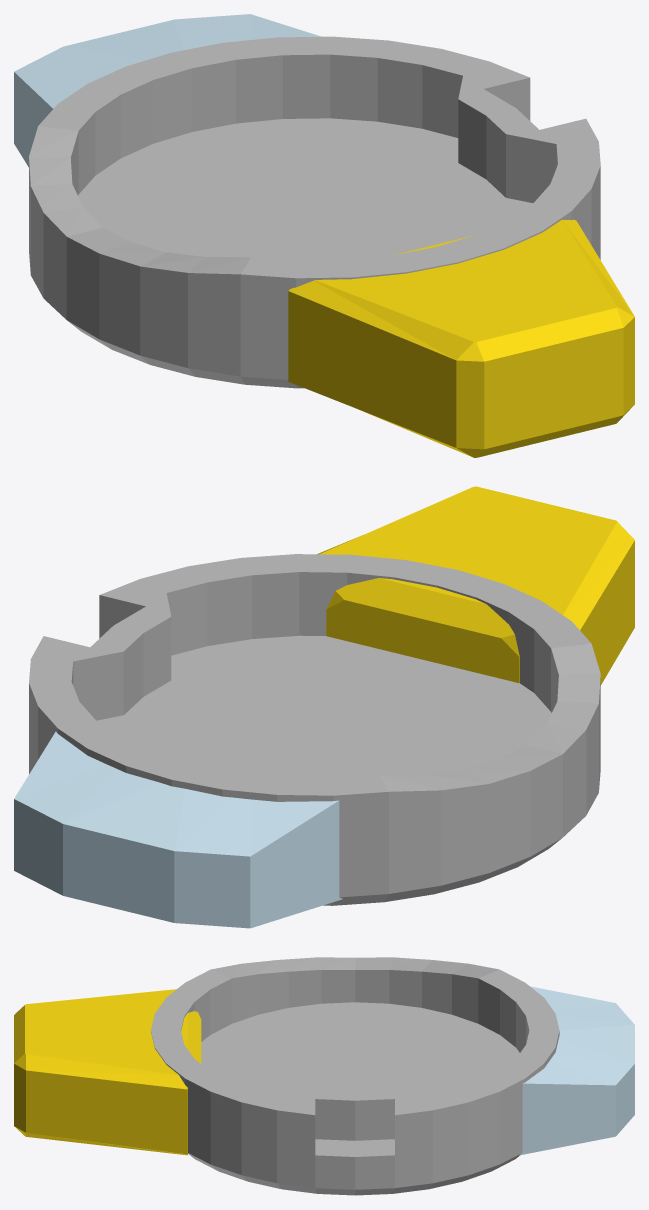
The model's file is quick_changer_low_poly.dae.
3 views of the same model, one above another, from view 1: azimuth 30°, elevation 25°; view 2: azimuth 150°, elevation 25°; view 3: azimuth 270°, elevation 25° (orthographic). The views are drawn at different scales.
Visible parts, largest first — view 1: Housing, Plug.001, CableHolder; view 2: Housing, CableHolder, Plug.001; view 3: Housing, Plug.001, CableHolder.
Boxes of the visible parts, x1,y1,x2,y2 form: Housing: (29, 36, 600, 388); Plug.001: (288, 219, 634, 457); CableHolder: (14, 14, 320, 167); Housing: (29, 554, 600, 905); CableHolder: (14, 731, 342, 928); Plug.001: (317, 486, 634, 685); Housing: (151, 957, 559, 1195); Plug.001: (14, 989, 201, 1155); CableHolder: (519, 986, 634, 1155).
Size of the model in its own units: 0.0711 by 0.108 by 0.0163.
